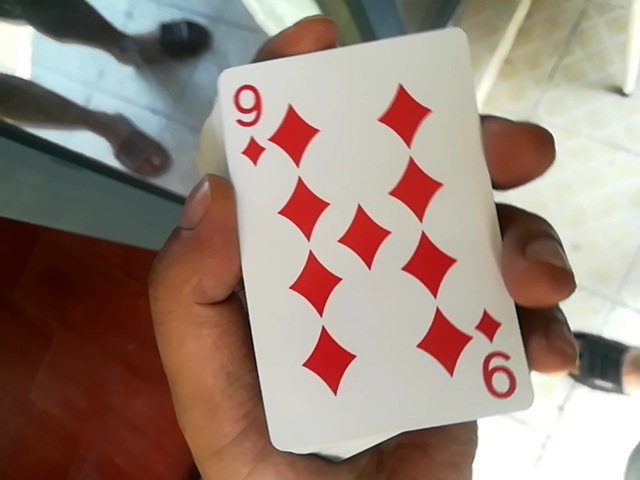fk 9: (217, 27, 530, 452)
